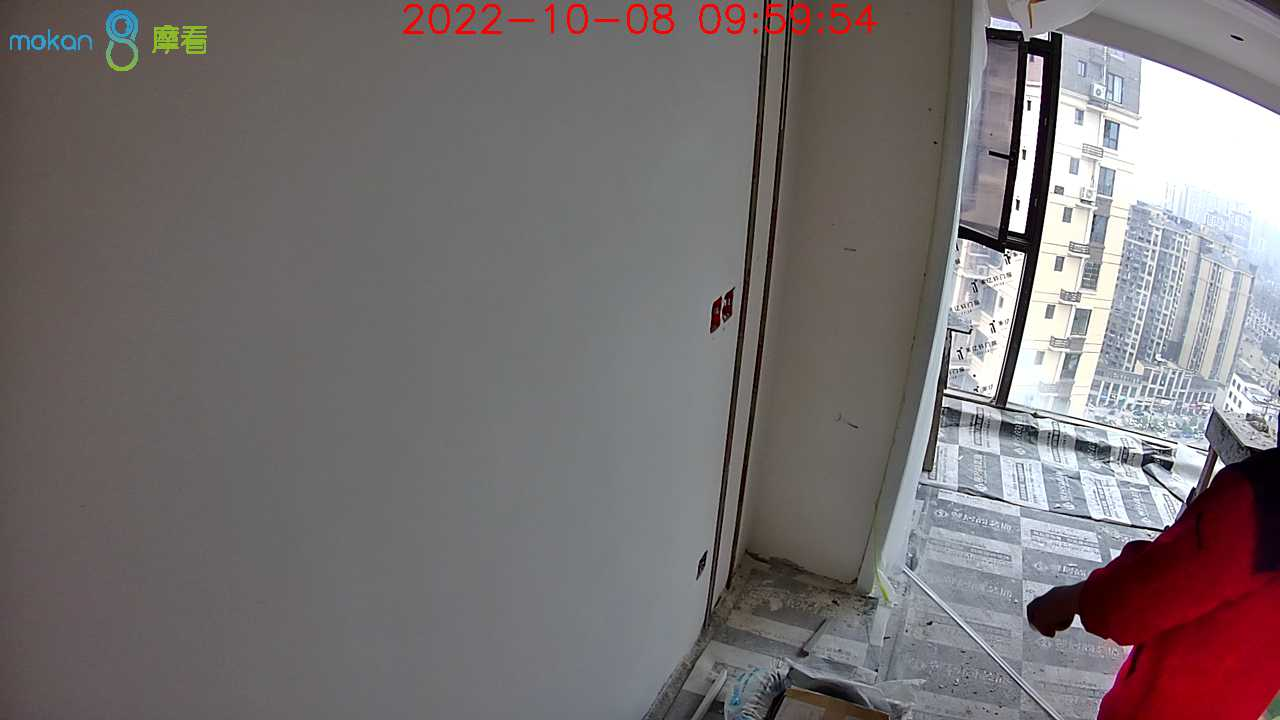people: (1025, 424, 1279, 720)
window: (979, 27, 1280, 434)
